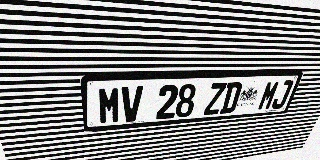2: (156, 84, 179, 119)
8: (174, 84, 198, 118)
D: (219, 82, 243, 114)
J: (270, 80, 294, 109)
M: (98, 86, 121, 124), (257, 81, 281, 111)
V: (121, 86, 143, 122)
Z: (203, 83, 227, 115)
